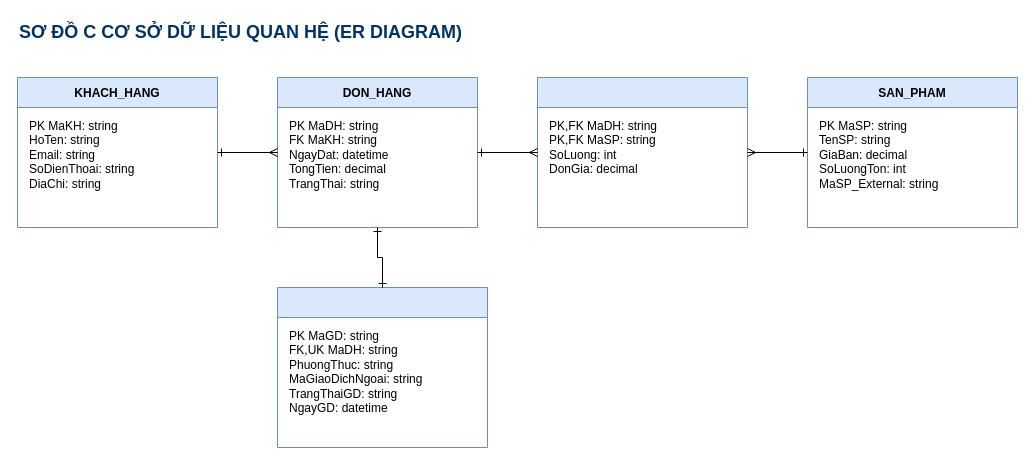
Some shapes in this 1035 by 467 pixel diagram are drawn without their labels. Each missing label, with the box of its shape:
CHI_TIET_DON_HANG: (536, 76, 748, 228)
GIAO_DICH_THANH_TOAN: (276, 286, 488, 448)
